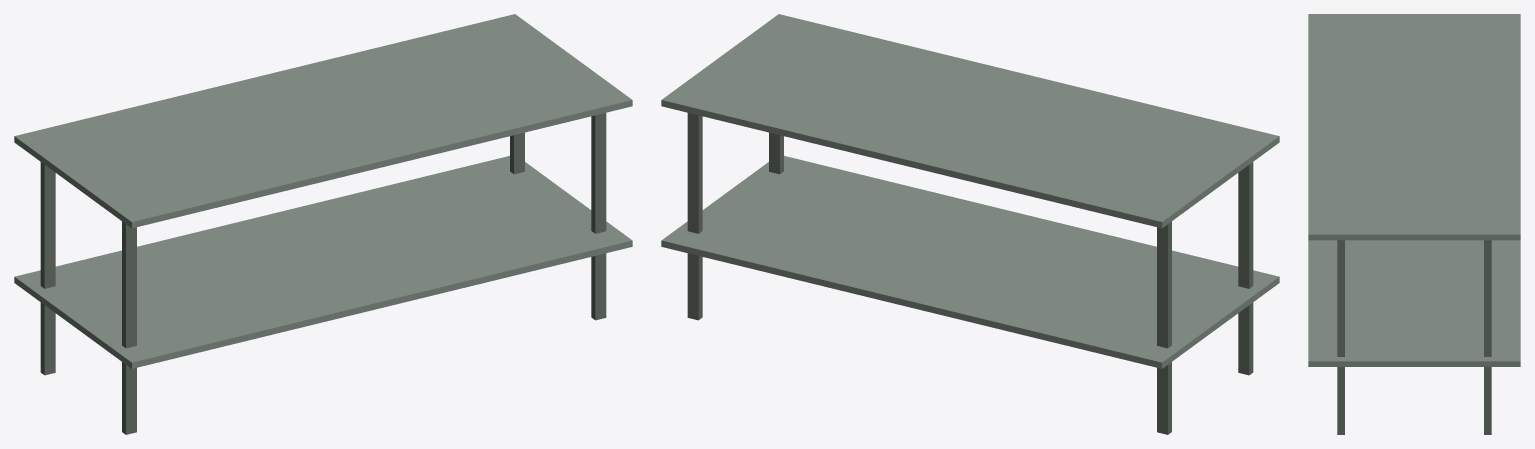
Rendered from SM_table_01.fbx.
The picture shows the model from 3 angles, left to right: view 1: azimuth 30°, elevation 25°; view 2: azimuth 150°, elevation 25°; view 3: azimuth 270°, elevation 25°; orthographic projection. The views are drawn at different scales.
Parts seen in each view (by area): view 1: table_01; view 2: table_01; view 3: table_01.
Boxes of the visible parts, x1=… form: table_01: x1=14, y1=14, x2=632, y2=434; table_01: x1=661, y1=14, x2=1279, y2=434; table_01: x1=1308, y1=14, x2=1520, y2=434.
Bounding box in the file's own units: 320 × 139 × 130.
